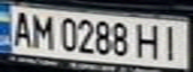0: (54, 15, 78, 52)
2: (75, 16, 96, 55)
8: (109, 19, 133, 57), (93, 18, 115, 56)
A: (6, 8, 36, 47)
H: (133, 20, 163, 61)
I: (157, 22, 187, 61)
M: (27, 11, 57, 50)
